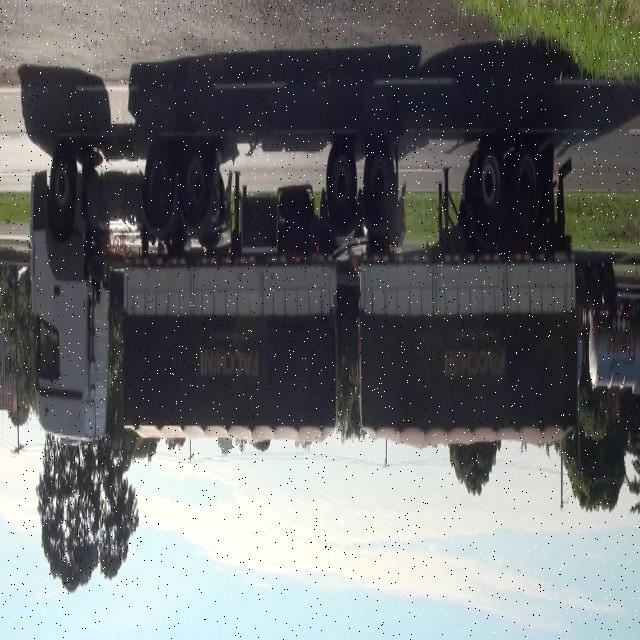-axle: (473, 139, 505, 231), (46, 140, 78, 227), (363, 144, 395, 230), (325, 142, 357, 228), (144, 142, 173, 232), (511, 142, 541, 227), (185, 146, 207, 227)
